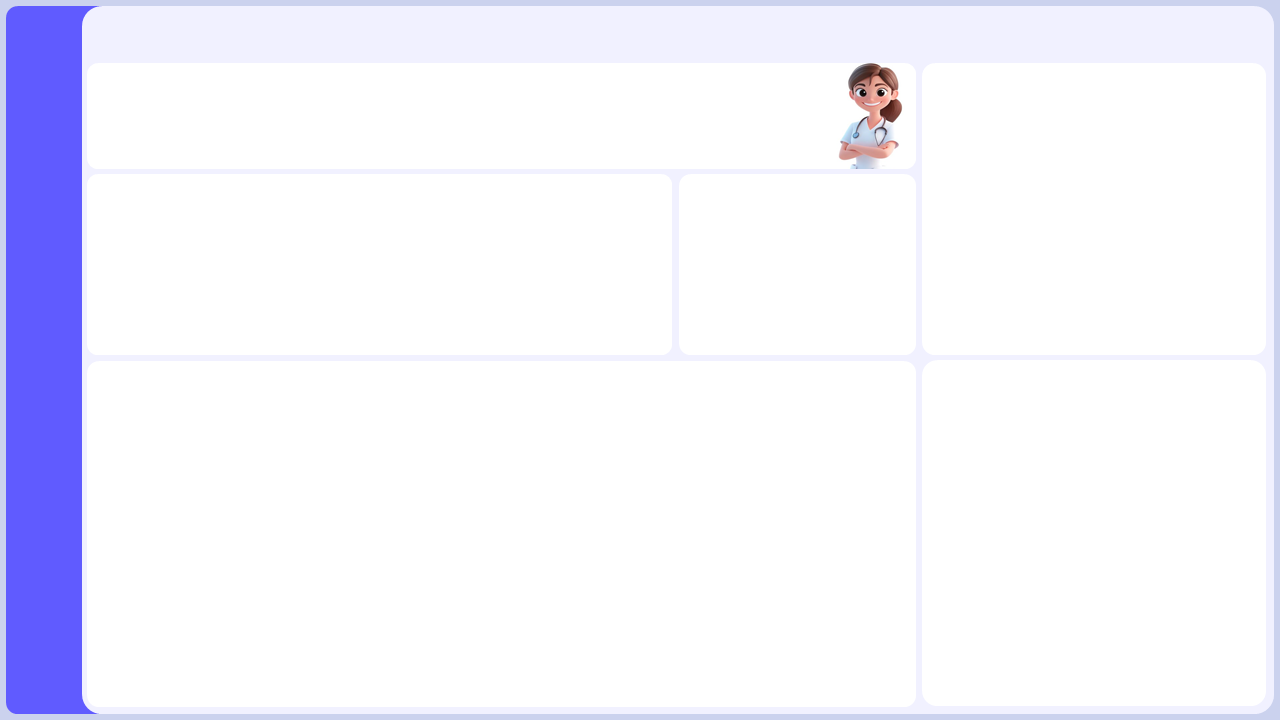

Layout of this report page (visuals, bound fields, positions):
{"tool":"powerbi","page":{"name":"Summary","canvas":[1280,720],"ordinal":1},"visuals":[{"type":"tableEx","fields":{"Values":["Hospital ER.Patient ID","Hospital ER.Full Name","Hospital ER.Date AND TIME","Hospital ER.Gender","Hospital ER.Race","Hospital ER.Age","Hospital ER.Satisfaction Score","Hospital ER.Department Referral"]},"box":[116.7,67.4,1053,616],"z":0},{"type":"textFilter25A4896A83E0487089E2B90C9AE57C8A","fields":{"field":["Hospital ER.Full Name"]},"box":[374.8,14.3,539.5,40.2],"z":1},{"type":"pageNavigator","box":[923.4,6.5,338.5,50.6],"z":2},{"type":"advancedSlicerVisual","fields":{"Values":["Calendar.Year"]},"box":[15.6,58.4,76.5,115.4],"z":3},{"type":"advancedSlicerVisual","fields":{"Values":["Calendar.Month"]},"box":[15.9,176.4,76.5,517.4],"z":4},{"type":"textbox","box":[107.6,16.9,262,40.2],"z":5},{"type":"image","box":[15.6,11.7,76.5,68.7],"z":6}]}

Visuals, with their boxes in screenshot pixels (x1, y1, x2, y2), scaled from the page's 1280x720 canvas onto the 1280x720 screenshot:
tableEx - Hospital ER.Patient ID x Hospital ER.Full Name: select_region(117, 67, 1170, 683)
textFilter25A4896A83E0487089E2B90C9AE57C8A - Hospital ER.Full Name: select_region(375, 14, 914, 54)
pageNavigator: select_region(923, 6, 1262, 57)
advancedSlicerVisual - Calendar.Year: select_region(16, 58, 92, 174)
advancedSlicerVisual - Calendar.Month: select_region(16, 176, 92, 694)
textbox: select_region(108, 17, 370, 57)
image: select_region(16, 12, 92, 80)
